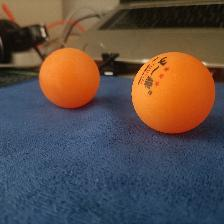YellowBall: (130, 51, 215, 134), (38, 47, 101, 109)
